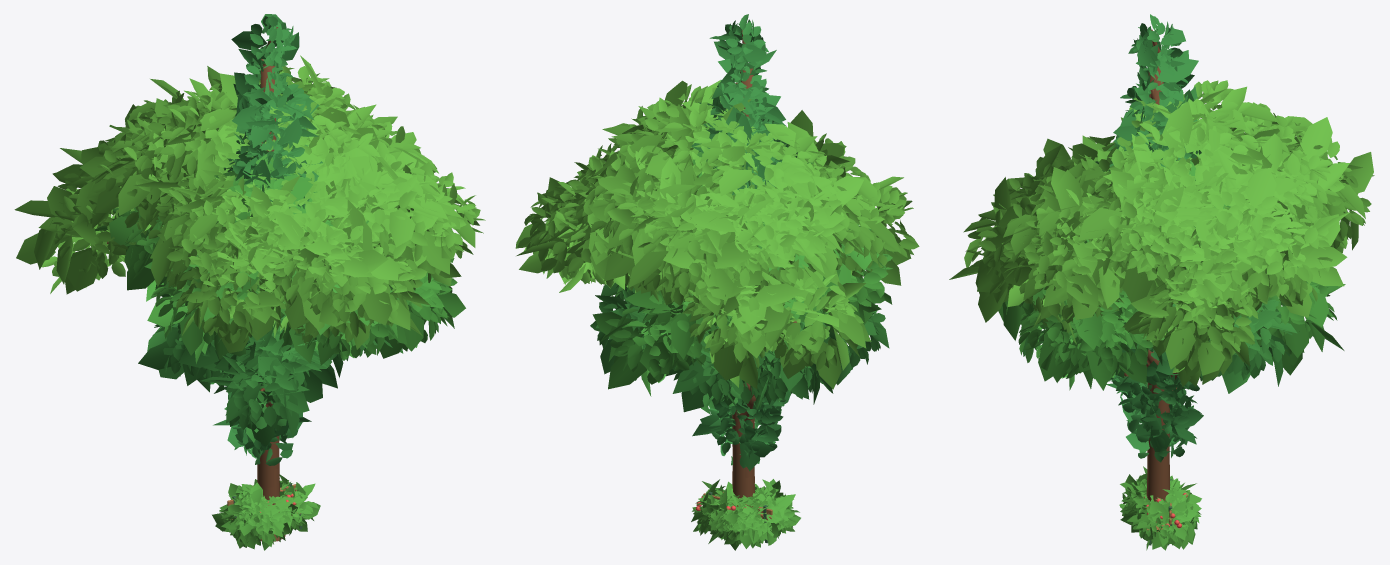
The model's file is props.glb.
The picture shows the model from 3 angles, left to right: view 1: azimuth 30°, elevation 25°; view 2: azimuth 150°, elevation 25°; view 3: azimuth 270°, elevation 25°; orthographic projection.
Visible parts, largest first — view 1: tree_b, tree_b_far, tree_a_far, poplar, tree_c_far, tree_c, poplar_far, tree_a, bush_a_far, bush_a, bush_b_far, bush_b; view 2: tree_b, tree_b_far, poplar, tree_a, tree_a_far, poplar_far, tree_c, tree_c_far, bush_a_far, bush_a, bush_b_far, bush_b; view 3: tree_b, tree_b_far, poplar, tree_a_far, tree_a, poplar_far, bush_b_far, tree_c, tree_c_far, bush_b, bush_a_far, bush_a.
Part boxes in pixels (left/top/right/bottom): tree_b: left=41, top=64, right=485, bottom=541; tree_b_far: left=14, top=55, right=483, bottom=353; tree_a_far: left=95, top=153, right=465, bottom=365; poplar: left=223, top=16, right=309, bottom=490; tree_c_far: left=138, top=314, right=403, bottom=446; tree_c: left=154, top=294, right=377, bottom=432; poplar_far: left=213, top=14, right=322, bottom=450; tree_a: left=112, top=169, right=457, bottom=486; bush_a_far: left=212, top=478, right=297, bottom=550; bush_a: left=221, top=485, right=290, bottom=545; bush_b_far: left=220, top=474, right=320, bottom=547; bush_b: left=221, top=482, right=310, bottom=534; tree_b: left=517, top=84, right=919, bottom=498; tree_b_far: left=515, top=80, right=911, bottom=389; poplar: left=698, top=14, right=786, bottom=483; tree_a: left=605, top=162, right=892, bottom=490; tree_a_far: left=592, top=152, right=894, bottom=396; poplar_far: left=691, top=23, right=797, bottom=471; tree_c: left=590, top=285, right=885, bottom=420; tree_c_far: left=595, top=279, right=889, bottom=414; bush_a_far: left=708, top=479, right=800, bottom=550; bush_a: left=708, top=486, right=794, bottom=548; bush_b_far: left=691, top=479, right=799, bottom=547; bush_b: left=692, top=486, right=786, bottom=540; tree_b: left=965, top=80, right=1371, bottom=502; tree_b_far: left=949, top=86, right=1374, bottom=386; poplar: left=1108, top=14, right=1201, bottom=467; tree_a_far: left=998, top=158, right=1345, bottom=390; tree_a: left=1005, top=143, right=1337, bottom=379; poplar_far: left=1095, top=24, right=1203, bottom=451; bush_b_far: left=1123, top=489, right=1201, bottom=550; tree_c: left=1028, top=299, right=1292, bottom=390; tree_c_far: left=1021, top=300, right=1297, bottom=393; bush_b: left=1130, top=483, right=1200, bottom=545; bush_a_far: left=1120, top=466, right=1201, bottom=542; bush_a: left=1119, top=479, right=1195, bottom=527.
Bounding box in the file's own units: 10.35 × 13.54 × 9.94.
